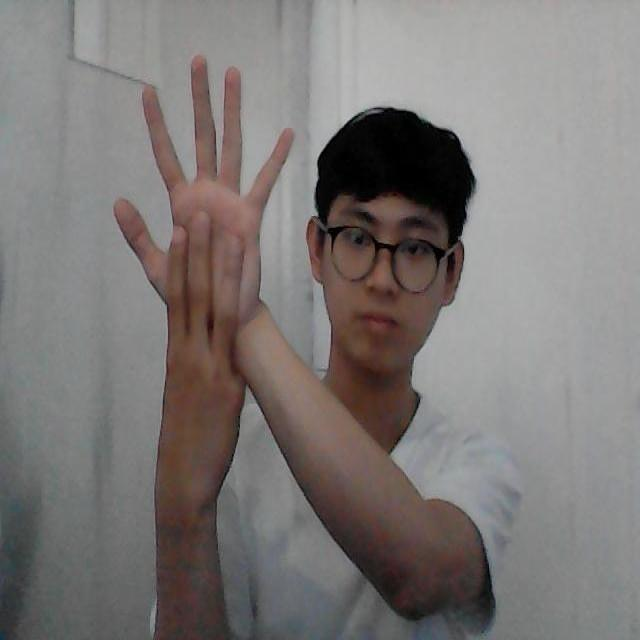M: (106, 45, 298, 375)
